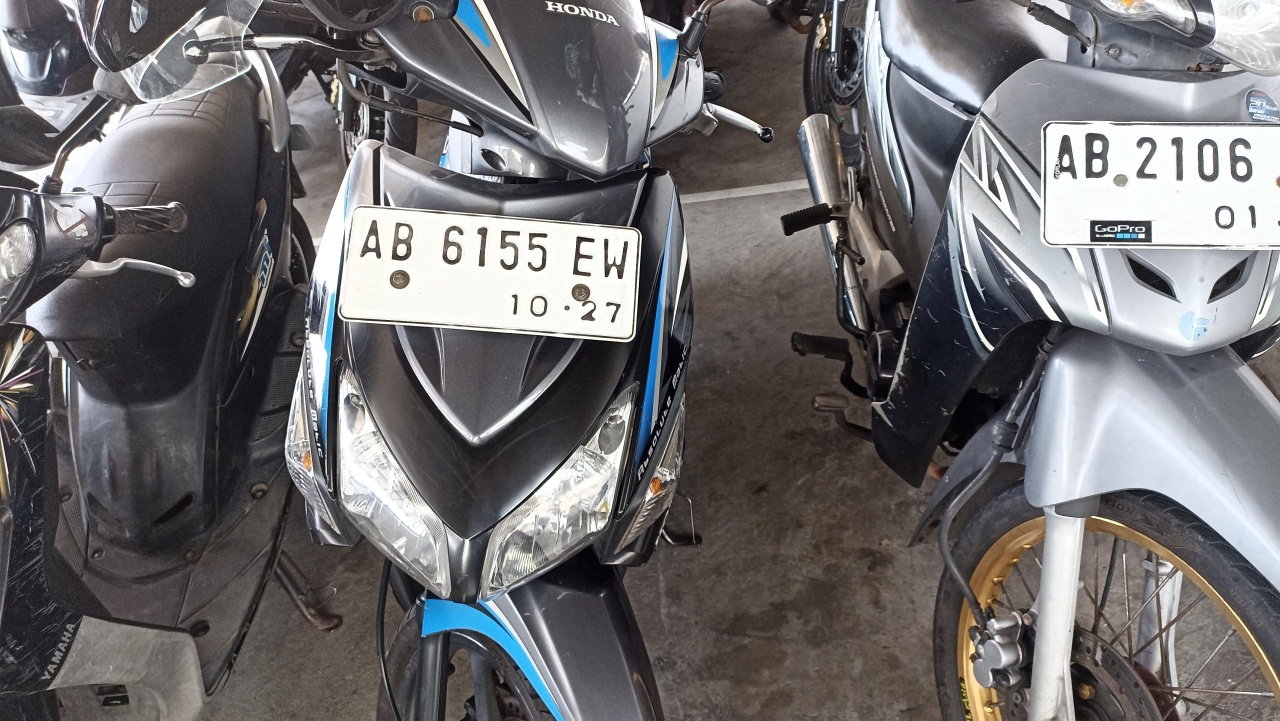plate: (338, 206, 642, 340)
